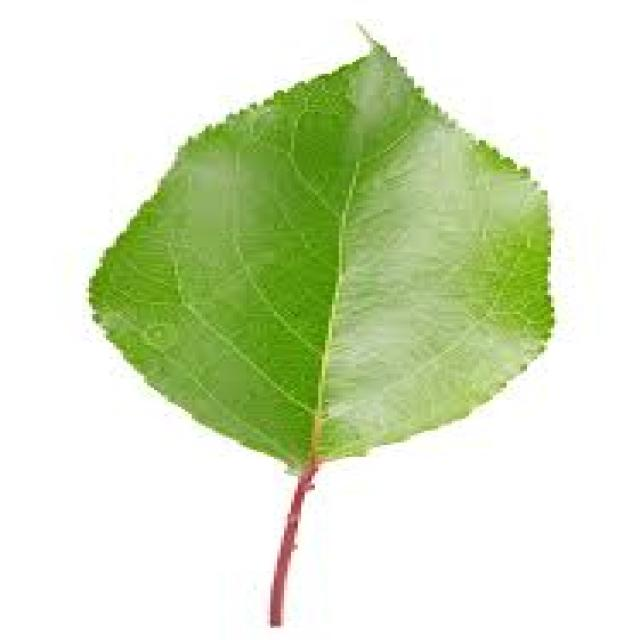yaprak: (91, 24, 556, 630)
